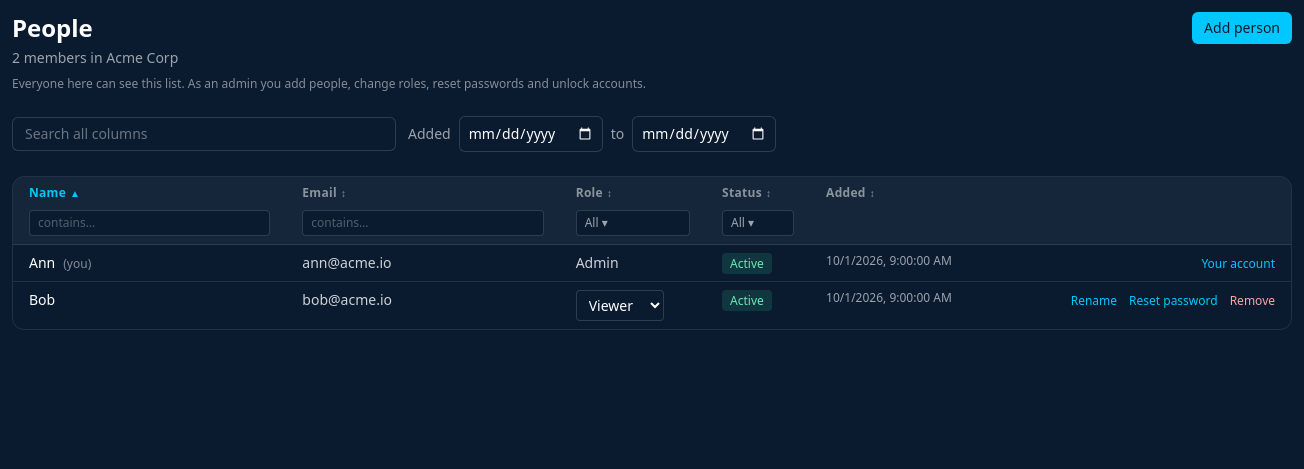
Test: People page › shows why a change was refused
The image size is (1304, 469).
Click the button "Remove": [1252, 301] box 1230,293 -> 1275,309
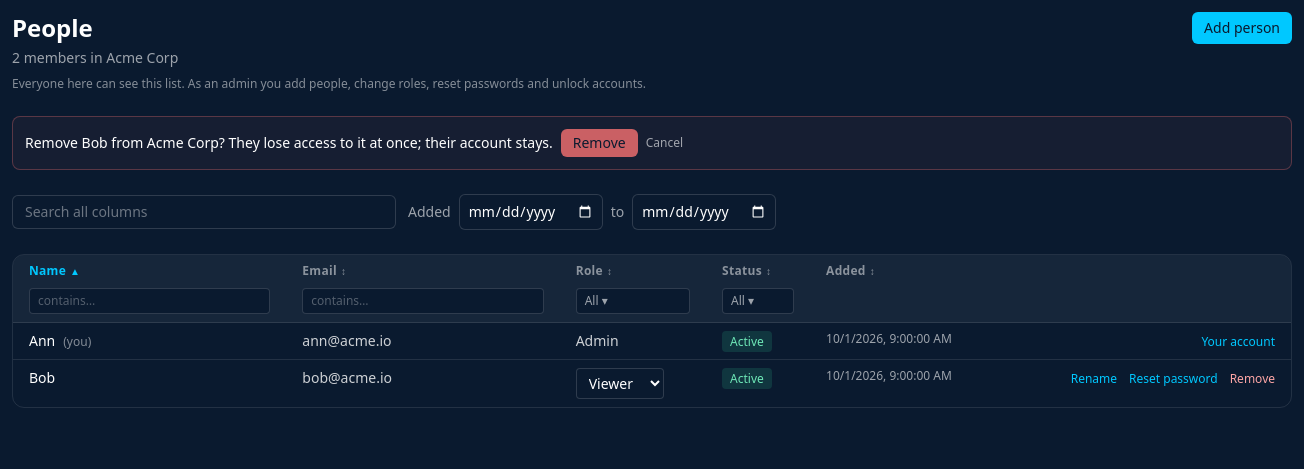
Click the 1st button "Remove": [599, 143] box 561,129 -> 638,157
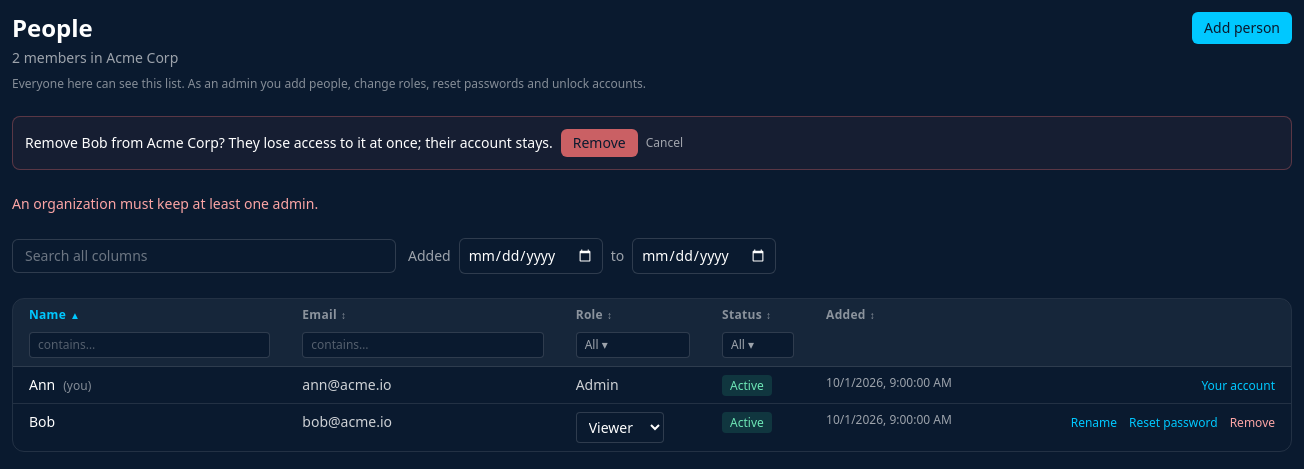
Check: the message reads "An organization must keep at least one admin.", box 12,194 -> 318,213
